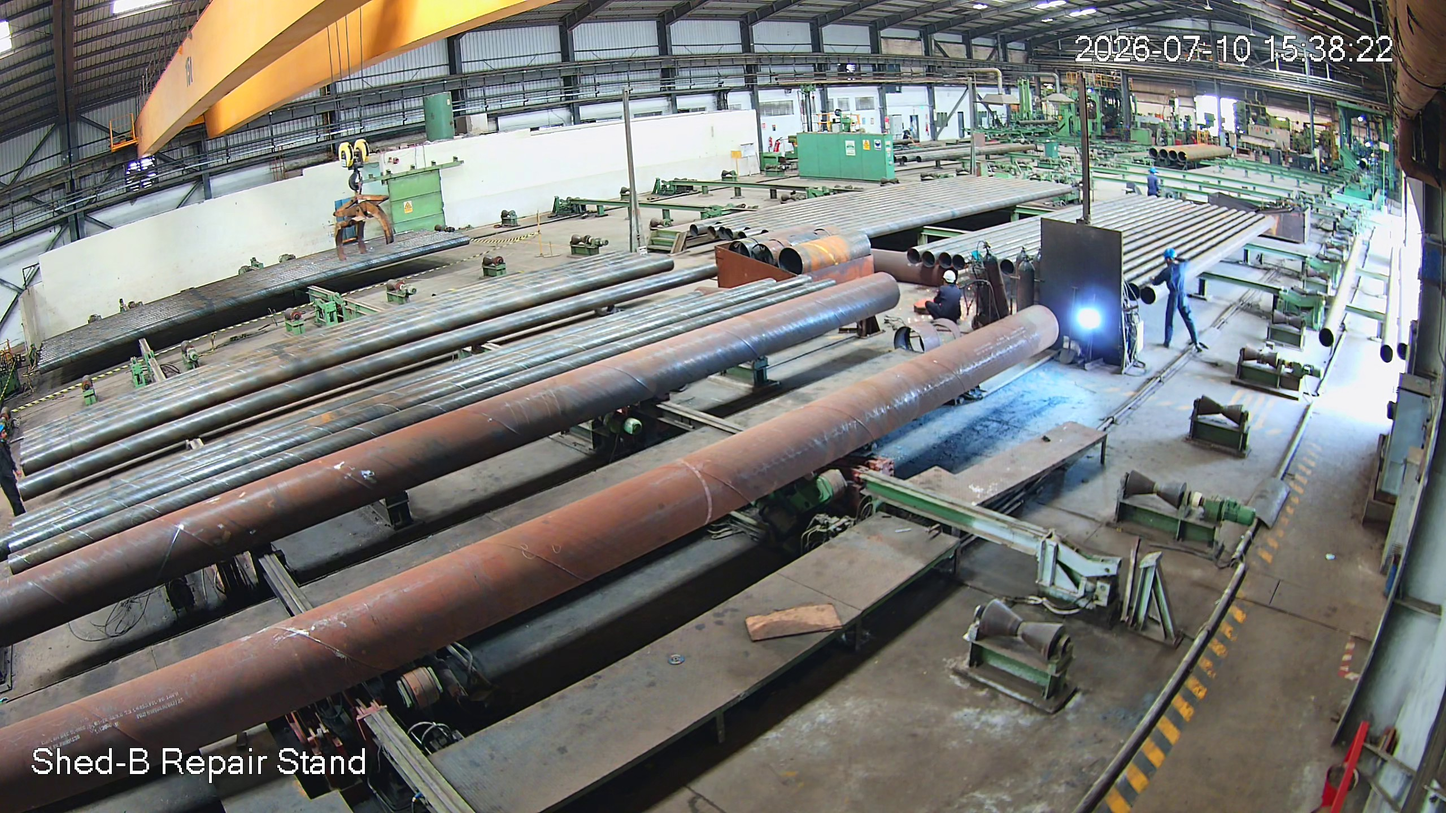Helmet: (939, 267, 965, 290), (1164, 246, 1181, 273)
Person: (1158, 248, 1201, 353), (927, 271, 959, 327)
